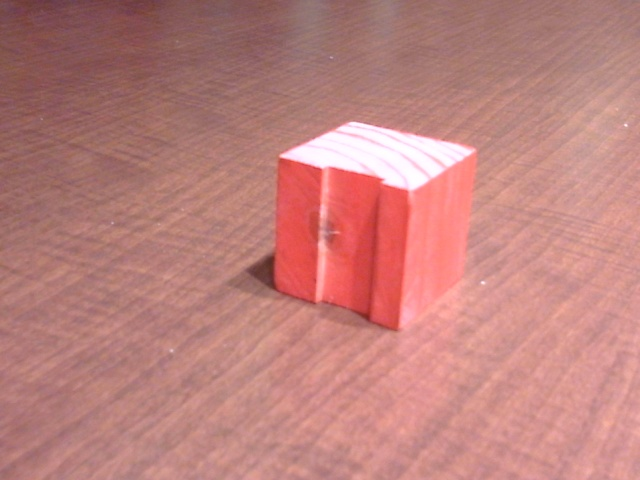RedBlock: (277, 153, 426, 328)
